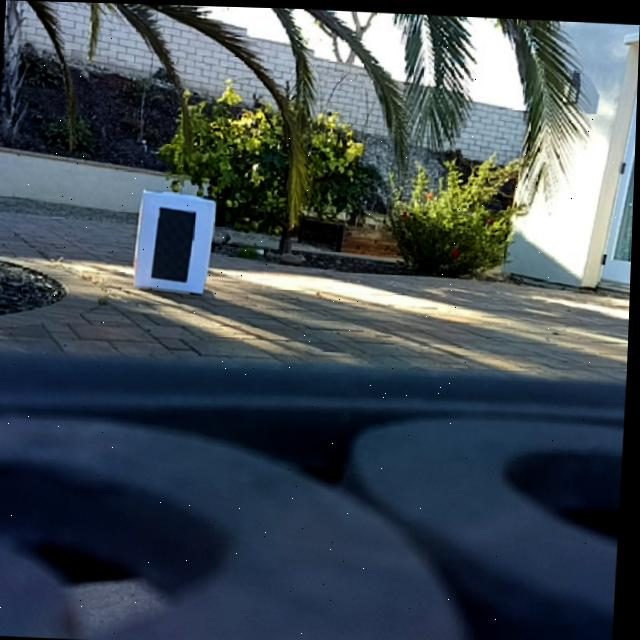led: (152, 204, 199, 283)
